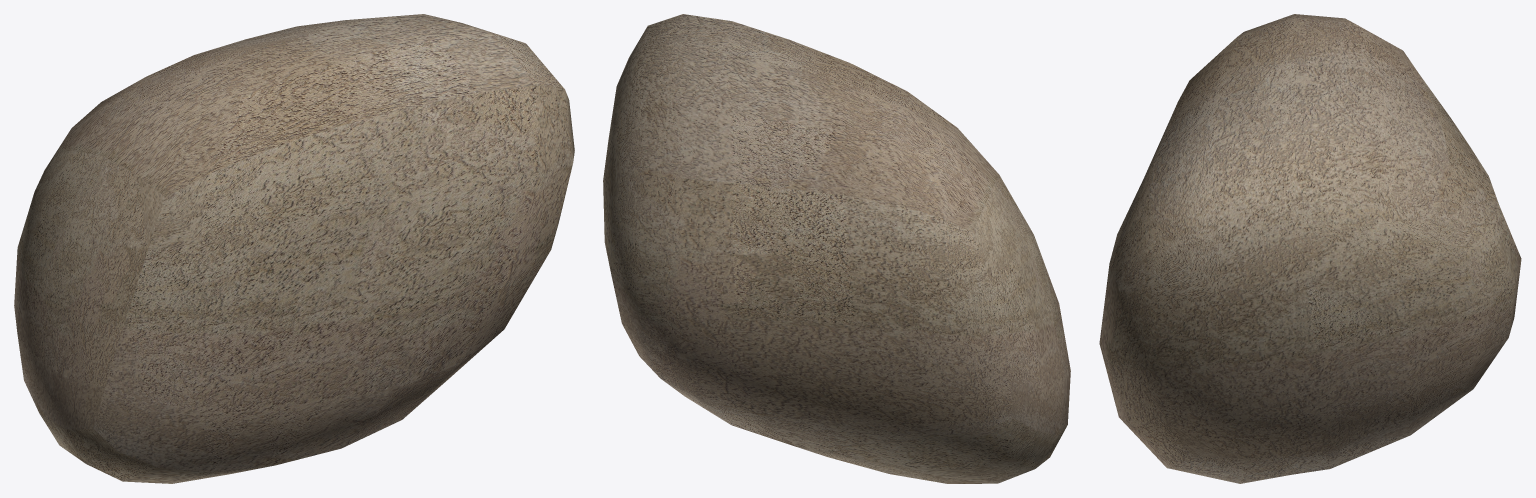
File: Rock3.fbx
3 renders of one model, left to right at view 1: azimuth 30°, elevation 25°; view 2: azimuth 150°, elevation 25°; view 3: azimuth 270°, elevation 25°, orthographic. The views are drawn at different scales.
Parts seen in each view (by area): view 1: Rock3; view 2: Rock3; view 3: Rock3.
Boxes of the visible parts, x1=… form: Rock3: x1=14, y1=14, x2=574, y2=483; Rock3: x1=603, y1=14, x2=1070, y2=483; Rock3: x1=1099, y1=14, x2=1521, y2=483.
Bounding box in the file's own units: 548 × 433 × 380.
